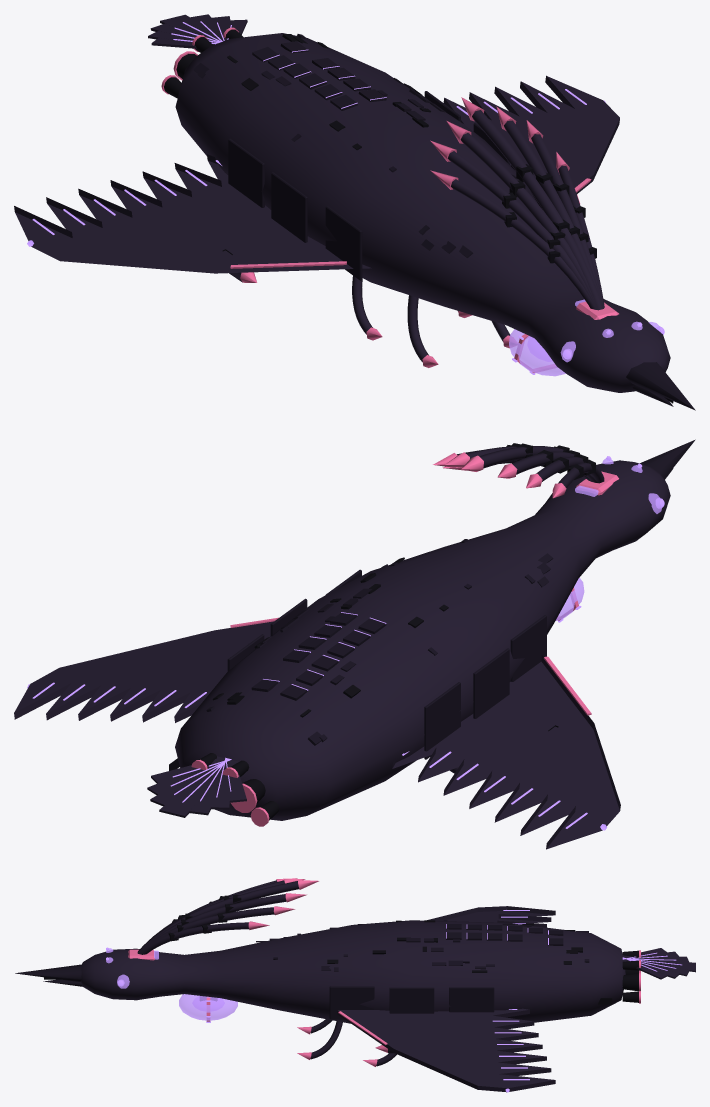
Rendered from choral-piesniarze-hawk-77-lod0.glb.
The picture shows the model from 3 angles, top to bottom: view 1: azimuth 30°, elevation 25°; view 2: azimuth 150°, elevation 25°; view 3: azimuth 270°, elevation 25°; orthographic projection. The views are drawn at different scales.
Size of the model in its own units: 66.28 by 29.06 by 104.
